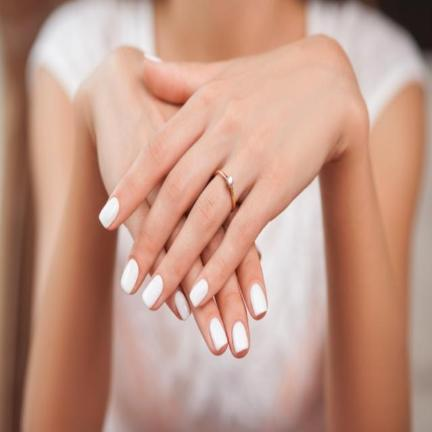Nail: (142, 274, 163, 308), (120, 258, 139, 293), (98, 197, 119, 228), (209, 317, 228, 350), (189, 278, 208, 308), (232, 321, 249, 353), (250, 284, 267, 316), (174, 291, 191, 321)
